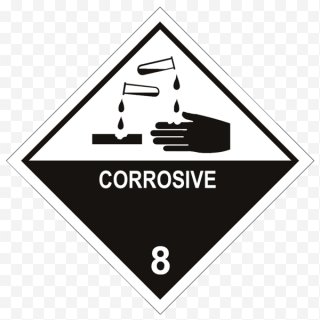Corrosive: (5, 6, 315, 314)
